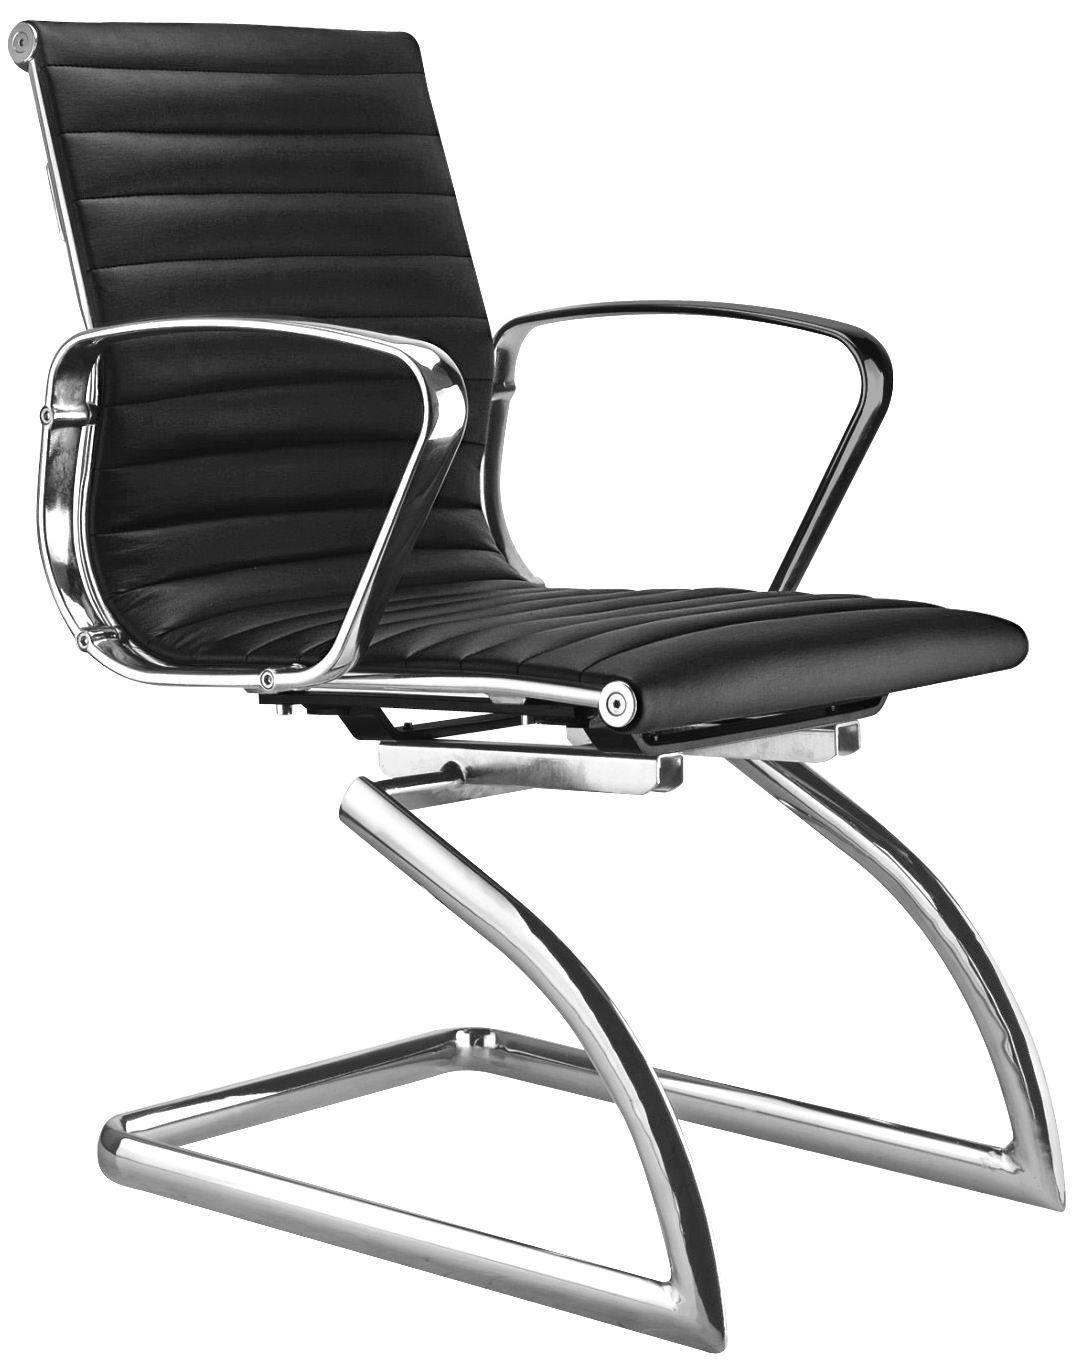chairs: (7, 16, 1076, 1359)
